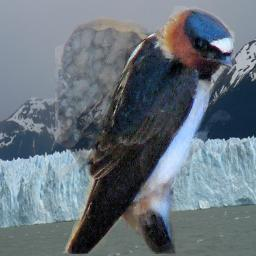Swallow: (55, 6, 235, 254)
